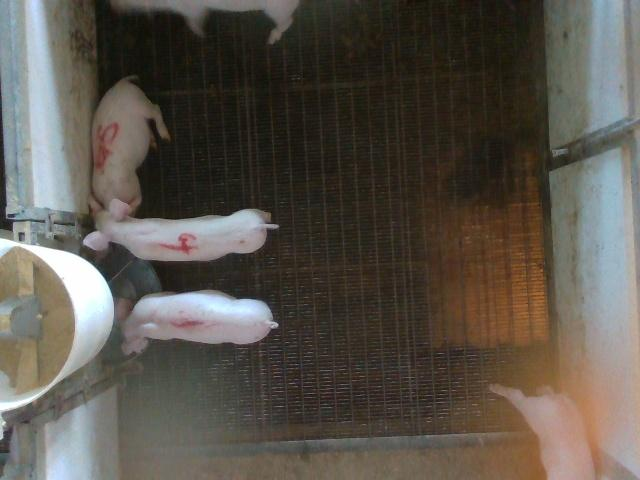pig-1: (114, 290, 278, 355)
pig-4: (84, 198, 279, 261)
pig-5: (92, 76, 170, 213)
